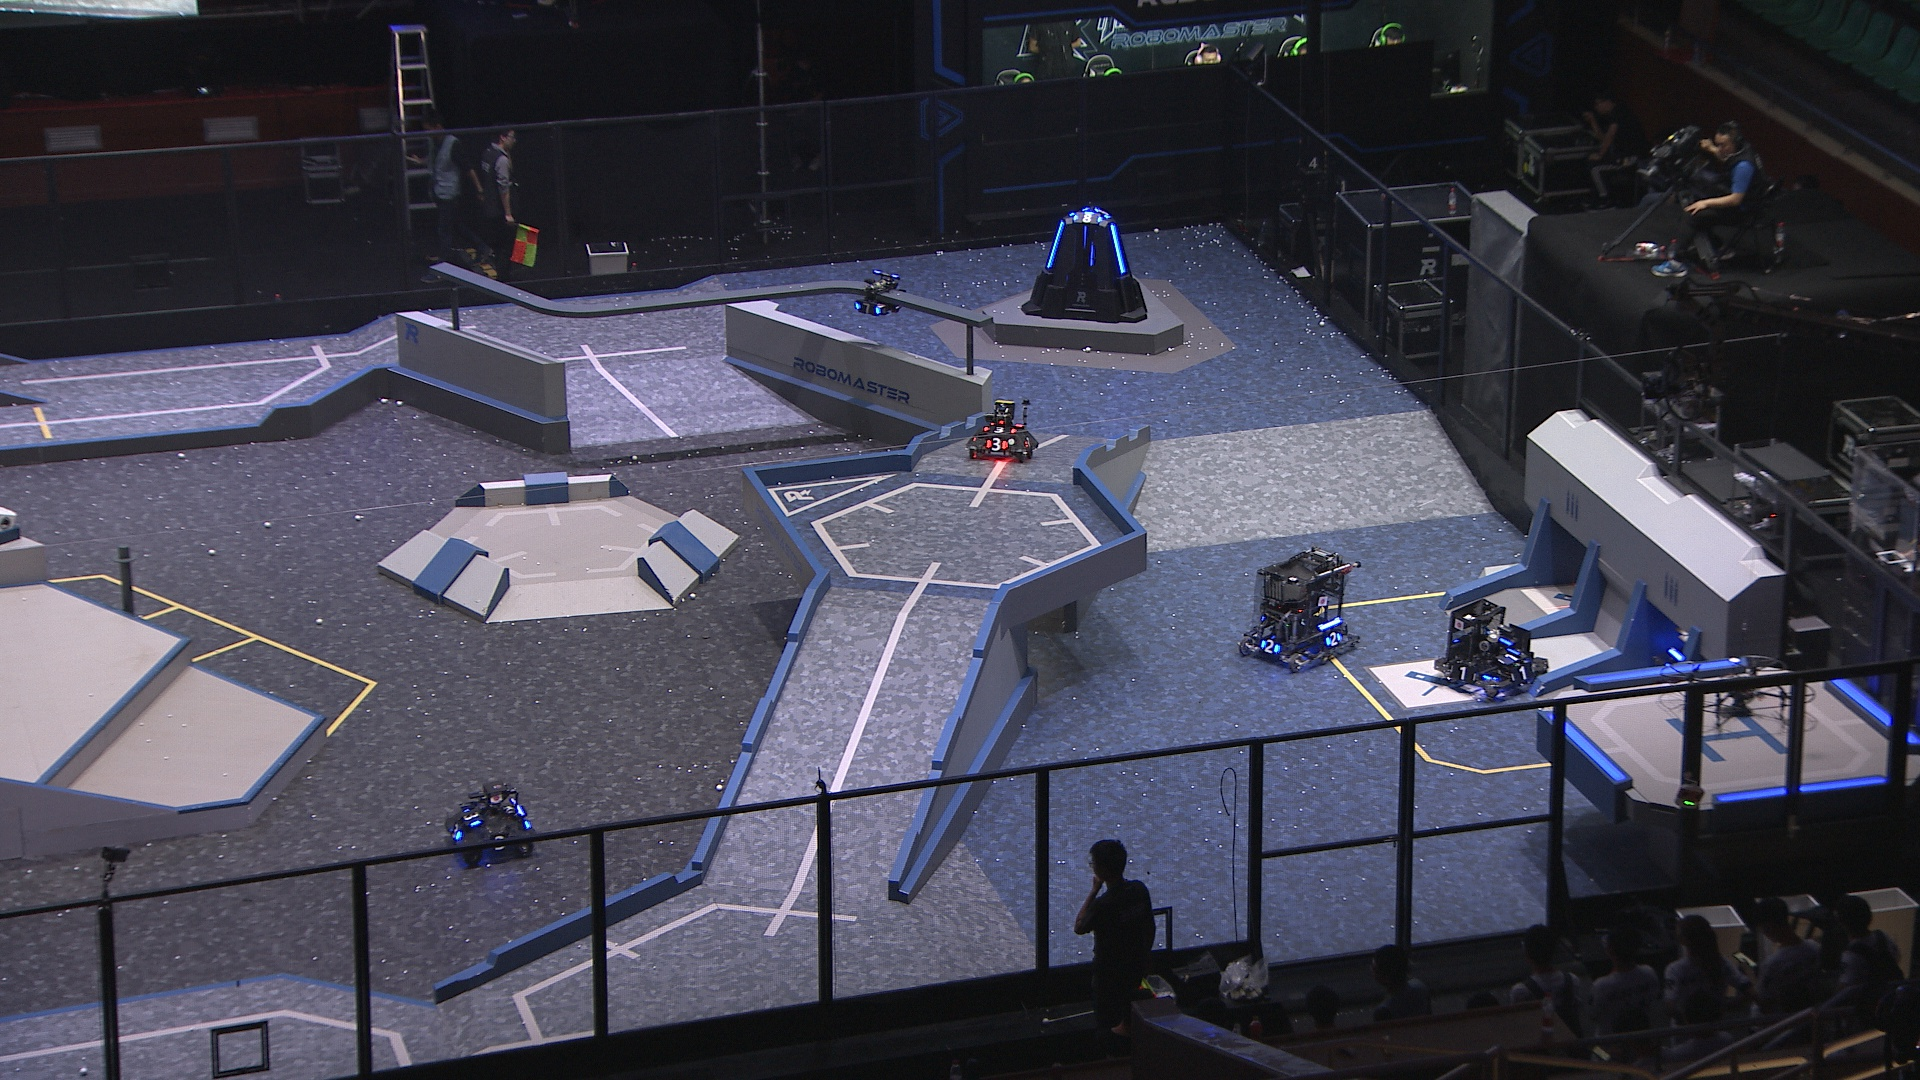armor: (1043, 218, 1067, 272), (1109, 224, 1130, 273), (1447, 662, 1480, 680), (1506, 662, 1538, 680), (487, 832, 513, 853), (462, 806, 484, 828), (1495, 647, 1522, 665), (981, 425, 1017, 436), (855, 301, 884, 315), (1258, 637, 1280, 655), (1072, 211, 1102, 224), (1324, 629, 1344, 647), (986, 436, 1007, 452), (1079, 223, 1091, 249), (447, 822, 462, 841), (1021, 436, 1034, 450)
base: (1021, 207, 1149, 322)
car: (1236, 545, 1360, 674), (1433, 593, 1552, 700), (444, 782, 535, 864), (964, 400, 1043, 462)
watcher: (852, 270, 907, 319)
